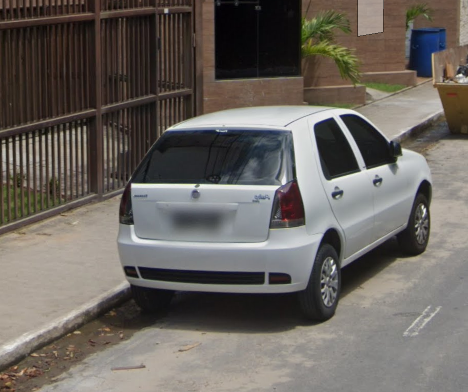car: (112, 101, 437, 329)
